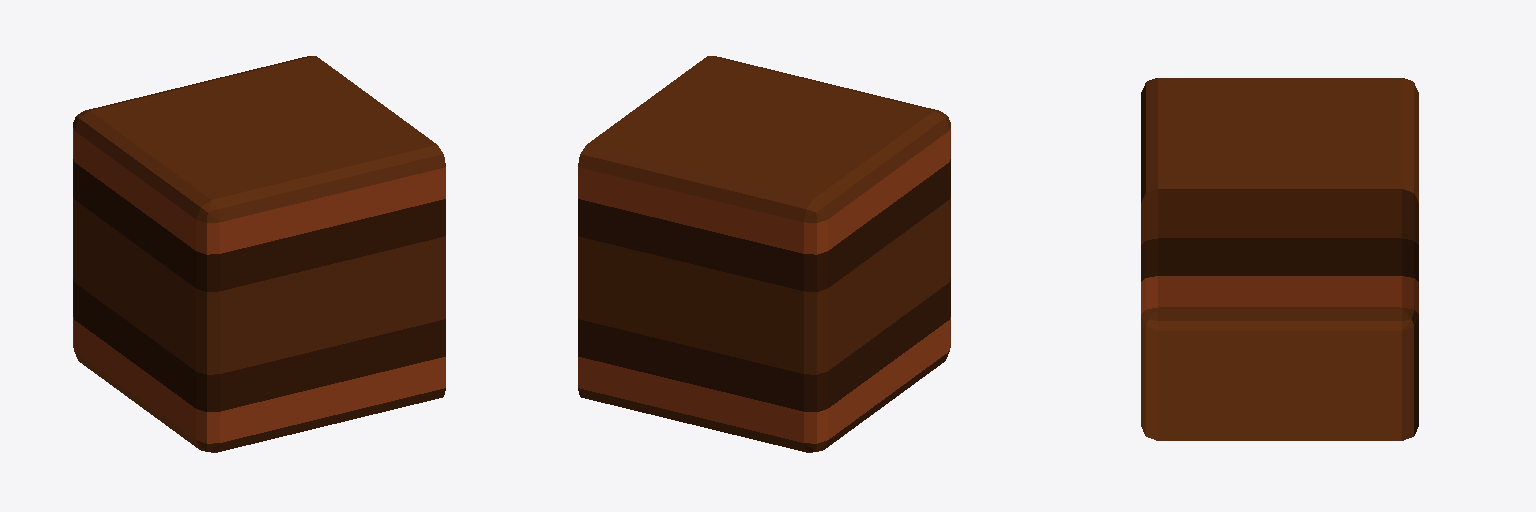
The model's file is Cube_Dirt_1x1End.obj.
3 renders of one model, left to right at view 1: azimuth 30°, elevation 25°; view 2: azimuth 150°, elevation 25°; view 3: azimuth 270°, elevation 25°, orthographic.
Visible parts, largest first — view 1: Cube_Dirt_1x1End_Cube.046; view 2: Cube_Dirt_1x1End_Cube.046; view 3: Cube_Dirt_1x1End_Cube.046.
Part boxes in pixels (x1,y1,x2,y2): Cube_Dirt_1x1End_Cube.046: (73,56,445,452); Cube_Dirt_1x1End_Cube.046: (578,56,950,452); Cube_Dirt_1x1End_Cube.046: (1141,78,1418,440).
Bounding box in the file's own units: 2 × 2 × 2.